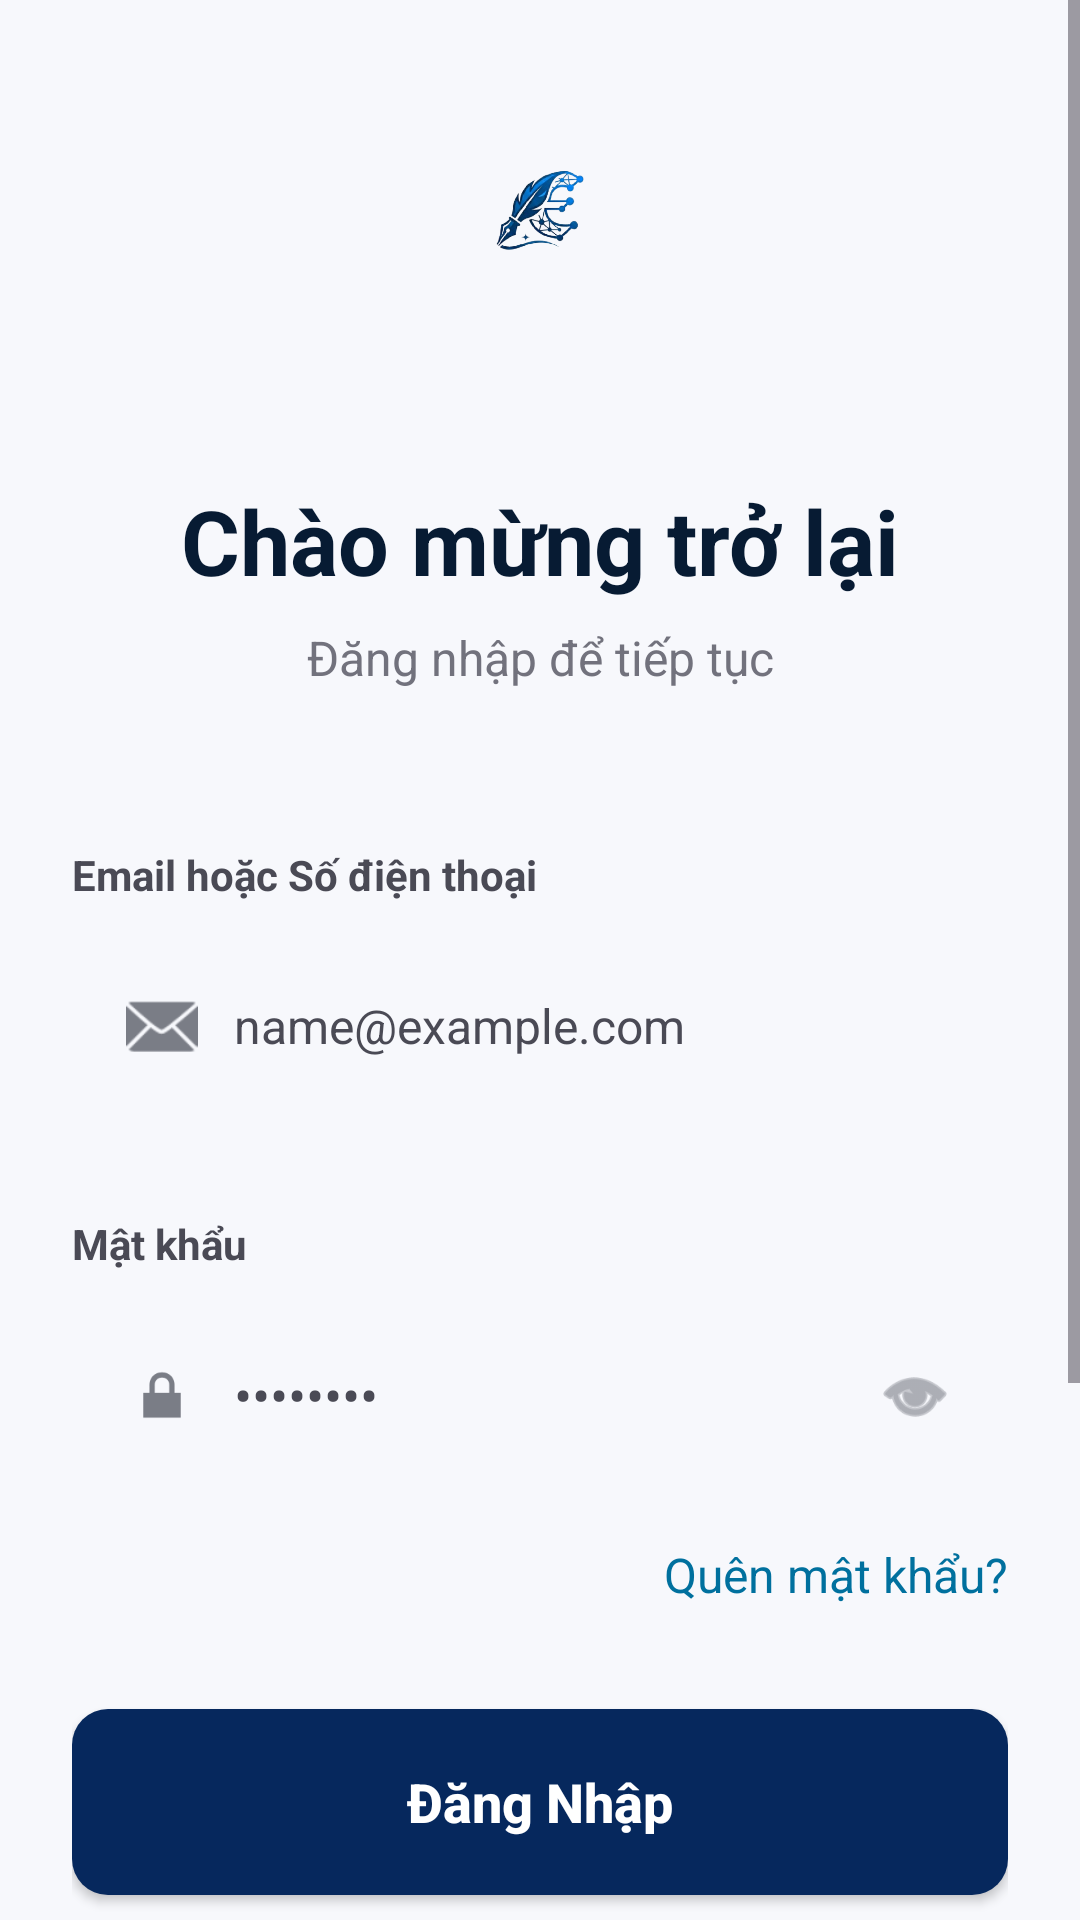

Icons on this 1080 × 1920 Android screen, each with its box as region(x1, y1, x2, y2):
Password icon: region(143, 1372, 181, 1418)
Show password: region(883, 1377, 947, 1417)
